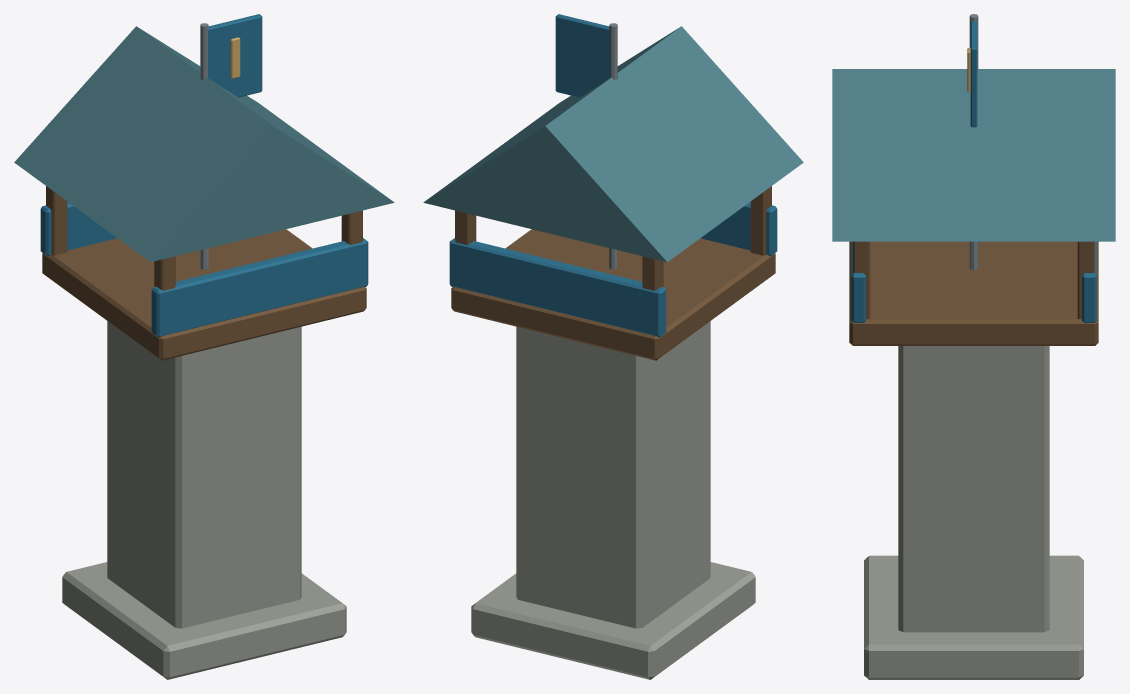
The model's file is tower.glb.
3 renders of one model, left to right at view 1: azimuth 30°, elevation 25°; view 2: azimuth 150°, elevation 25°; view 3: azimuth 270°, elevation 25°, orthographic. The views are drawn at different scales.
Visible parts, largest first — view 1: Stone tower core, Watchtower roof, Wooden platform, Tower foundation, Watch parapet, Hanging pennant.002, Watch parapet.001, Watch post.001, Watch post, Watch post.002, Banner pole.002; view 2: Stone tower core, Watchtower roof, Wooden platform, Tower foundation, Watch parapet.001, Hanging pennant.002, Watch parapet, Watch post, Watch post.001, Watch post.003, Banner pole.002; view 3: Watchtower roof, Stone tower core, Wooden platform, Tower foundation, Hanging pennant.002, Watch post.002, Watch post.003, Watch parapet, Watch parapet.001, Banner pole.002.
Part boxes in pixels (<box>): Stone tower core: <box>107,321,301,628</box>; Watchtower roof: <box>14,26,394,262</box>; Wooden platform: <box>42,229,366,360</box>; Tower foundation: <box>62,562,346,679</box>; Watch parapet: <box>151,238,368,337</box>; Hanging pennant.002: <box>208,14,262,97</box>; Watch parapet.001: <box>40,201,116,256</box>; Watch post.001: <box>46,186,67,255</box>; Watch post: <box>154,256,175,290</box>; Watch post.002: <box>341,210,362,244</box>; Banner pole.002: <box>200,23,208,269</box>; Stone tower core: <box>516,321,710,628</box>; Watchtower roof: <box>423,26,803,262</box>; Wooden platform: <box>451,229,775,360</box>; Tower foundation: <box>471,562,755,679</box>; Watch parapet.001: <box>449,238,666,337</box>; Hanging pennant.002: <box>555,14,609,97</box>; Watch parapet: <box>701,201,777,256</box>; Watch post: <box>750,186,771,255</box>; Watch post.001: <box>642,256,663,290</box>; Watch post.003: <box>455,210,476,244</box>; Banner pole.002: <box>609,23,617,269</box>; Watchtower roof: <box>832,69,1115,241</box>; Stone tower core: <box>898,346,1049,632</box>; Wooden platform: <box>849,241,1098,345</box>; Tower foundation: <box>864,555,1083,679</box>; Hanging pennant.002: <box>970,21,977,127</box>; Watch post.002: <box>853,241,870,319</box>; Watch post.003: <box>1077,241,1094,319</box>; Watch parapet: <box>851,241,865,322</box>; Watch parapet.001: <box>1082,241,1096,322</box>; Banner pole.002: <box>969,14,978,269</box>.
Size of the model in its own units: 3 by 7 by 2.9.
